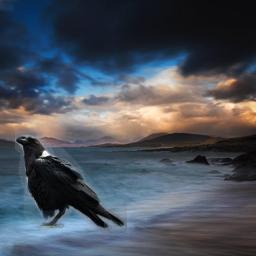Crow: (15, 131, 127, 233)
